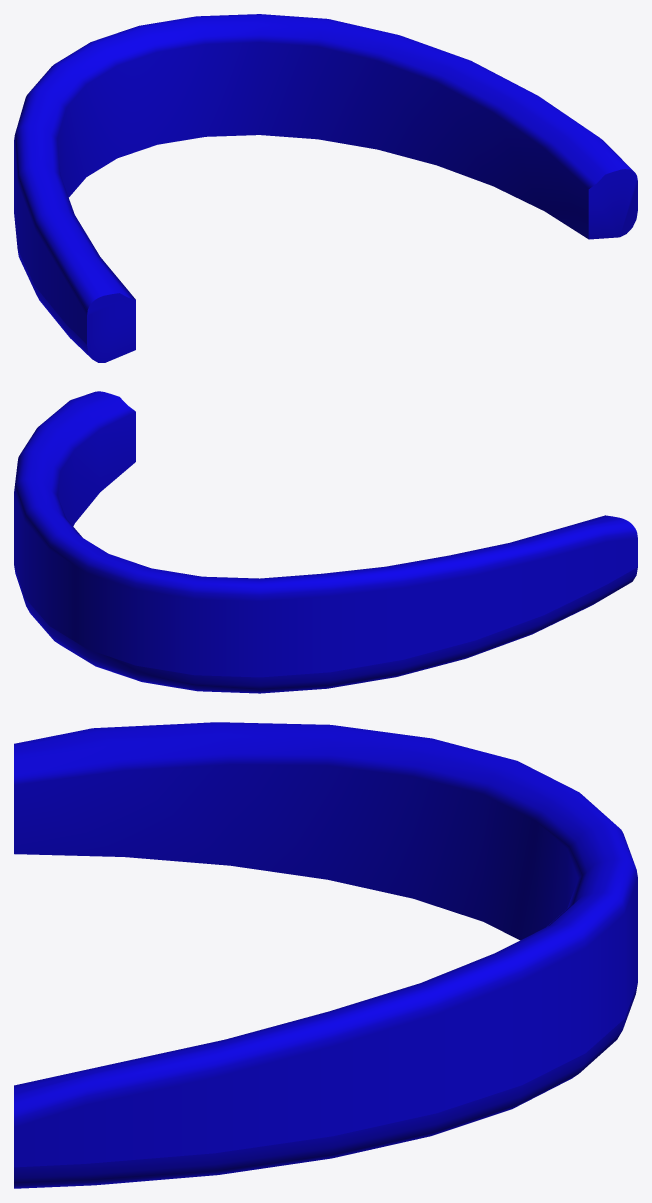
File: Magnet.fbx
3 views of the same model, one above another, from view 1: azimuth 30°, elevation 25°; view 2: azimuth 150°, elevation 25°; view 3: azimuth 270°, elevation 25° (orthographic). The views are drawn at different scales.
Parts seen in each view (by area): view 1: Magnet; view 2: Magnet; view 3: Magnet.
Boxes of the visible parts, x1,y1,x2,y2 form: Magnet: (14,14,637,362); Magnet: (14,391,637,693); Magnet: (14,722,637,1188).
Size of the model in its own units: 384 by 75.04 by 273.
